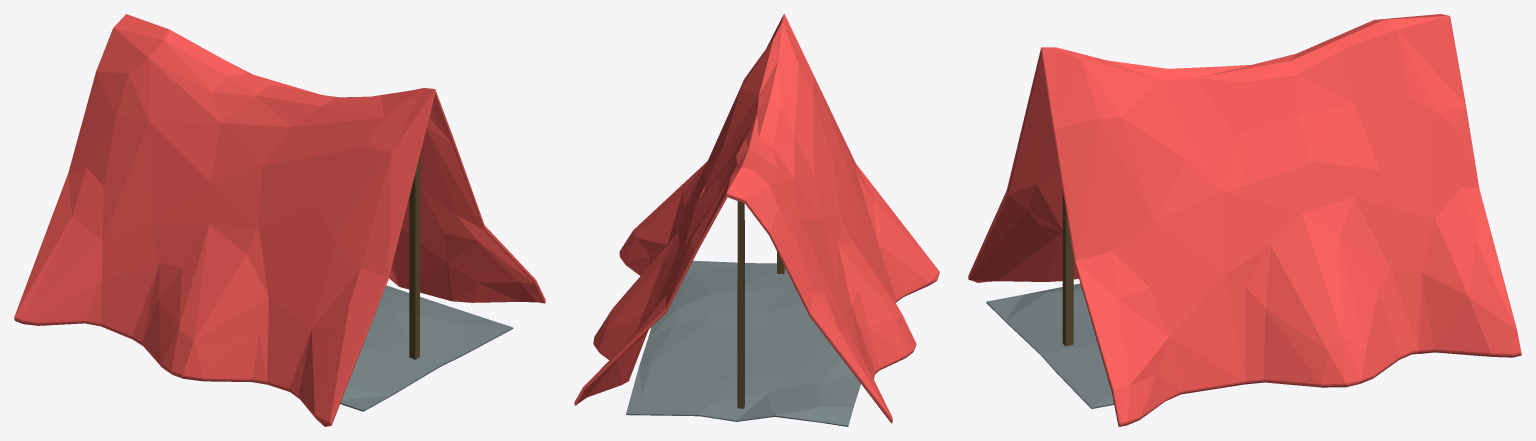
The model's file is low_poly_camp__tent_house.glb.
3 renders of one model, left to right at view 1: azimuth 30°, elevation 25°; view 2: azimuth 150°, elevation 25°; view 3: azimuth 270°, elevation 25°, orthographic. The views are drawn at different scales.
Visible parts, largest first — view 1: Object_3, Object_2, Object_4; view 2: Object_3, Object_2, Object_4; view 3: Object_3, Object_2, Object_4.
Part boxes in pixels (x1,y1,x2,y2): Object_3: [14, 14, 545, 426]; Object_2: [340, 285, 513, 411]; Object_4: [409, 156, 419, 359]; Object_3: [574, 14, 939, 423]; Object_2: [626, 260, 860, 426]; Object_4: [737, 201, 784, 408]; Object_3: [968, 14, 1521, 426]; Object_2: [986, 283, 1114, 408]; Object_4: [1062, 190, 1073, 346].
Size of the model in its own units: 2.83 by 1.83 by 2.97.
3 materials, 3 textured.
